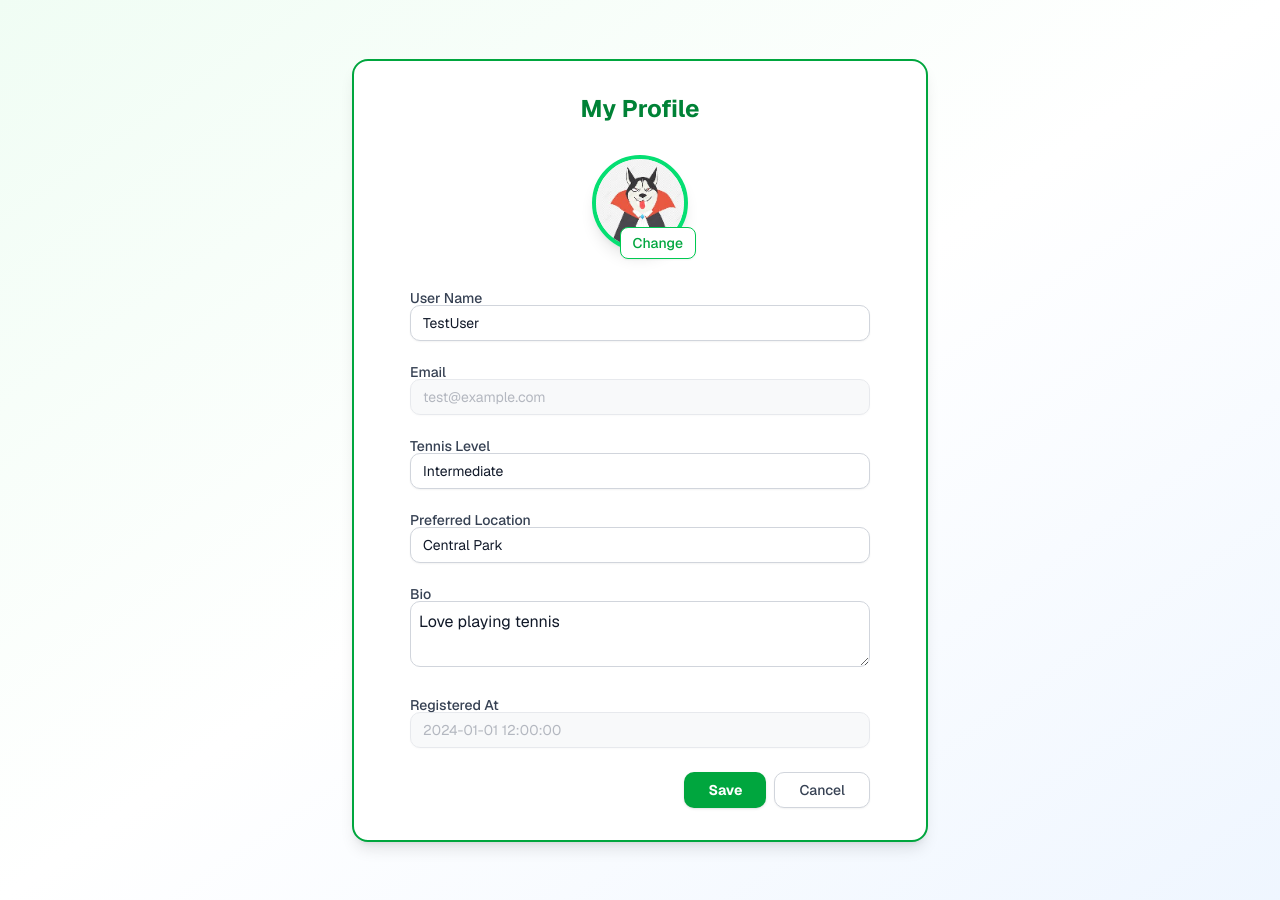
Test case: ProfilePage › Form Interactions › should reset form data when cancel is clicked
The image size is (1280, 900).
Replace the text in the field showing "TestUser" with "ChangedName" at x=640, y=322, box [410,304,870,340]
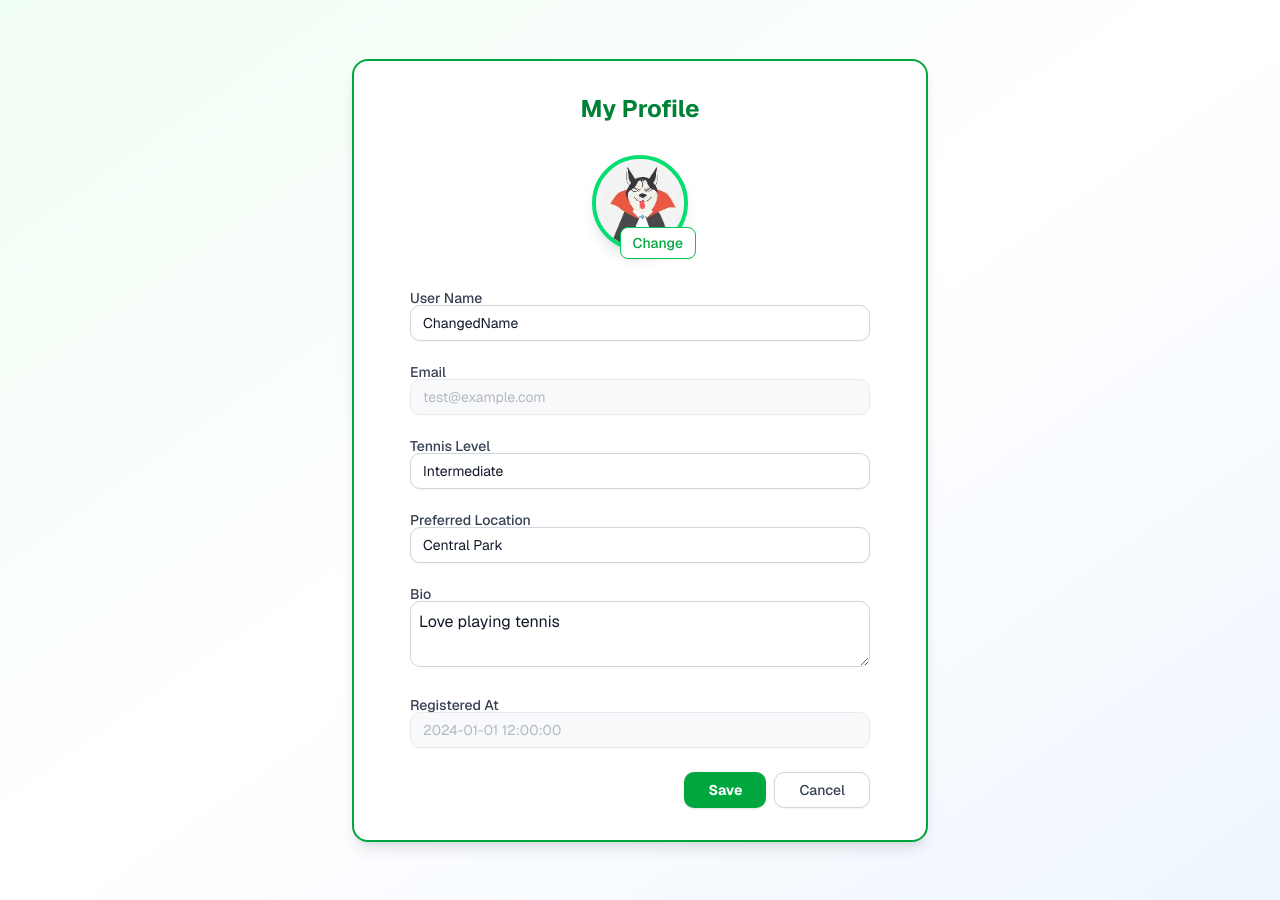
Click the button "Cancel" at x=822, y=790, box [774,772,870,808]
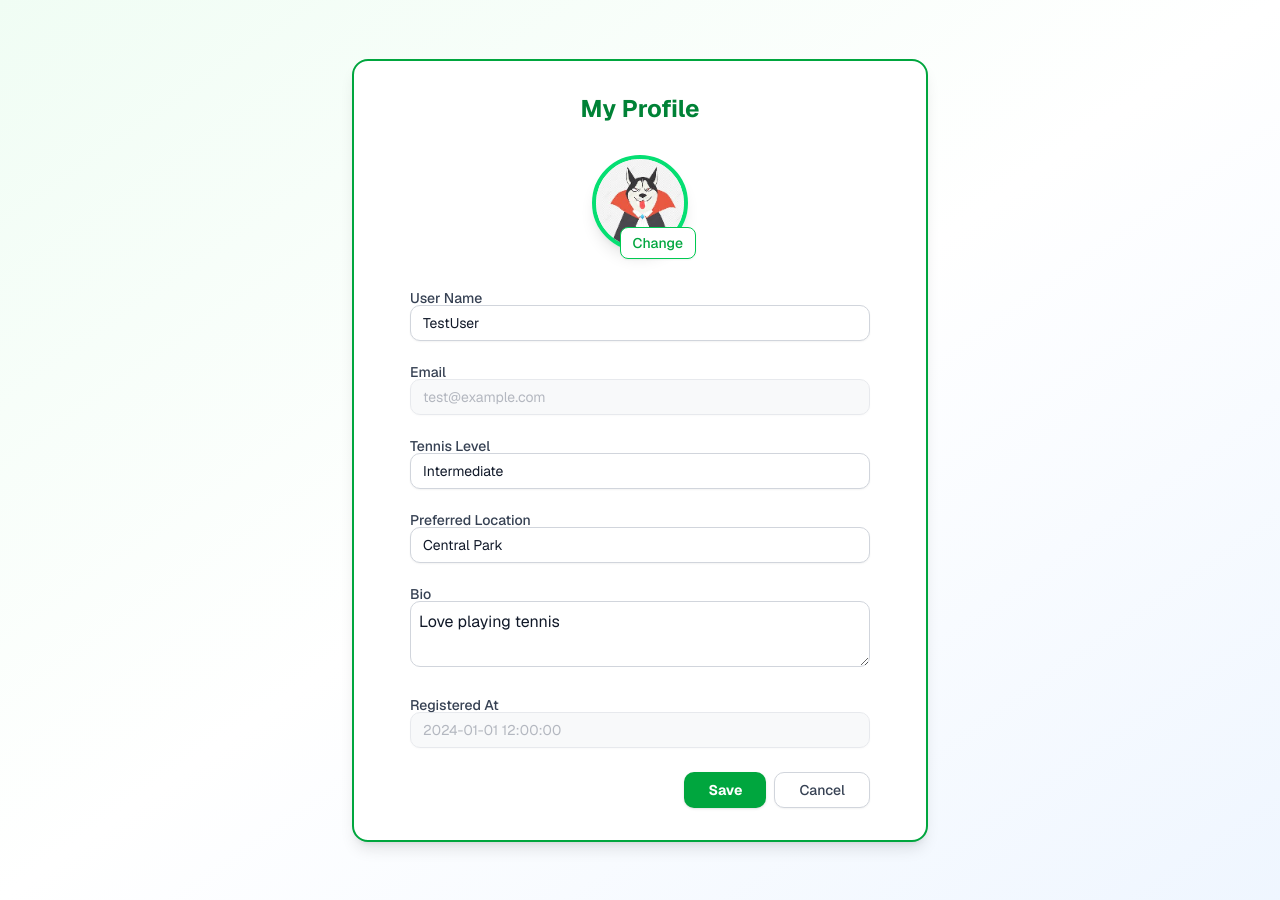
Now the field showing "TestUser" holds "TestUser", box [410,304,870,340]
